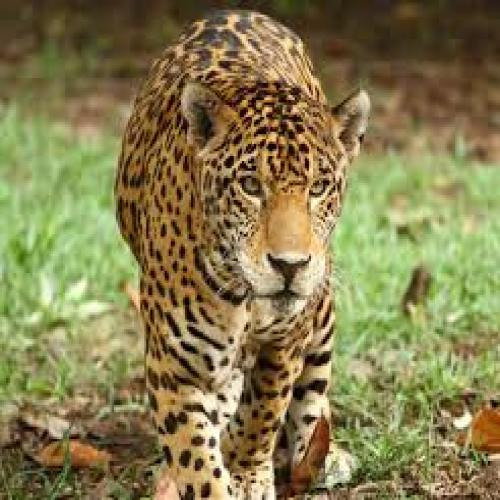jaguar_not-endangered: (114, 6, 372, 500)
